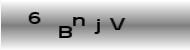6: (28, 10, 42, 25)
B: (58, 24, 73, 39)
V: (108, 17, 126, 32)
j: (92, 18, 102, 35)
n: (71, 15, 87, 28)
